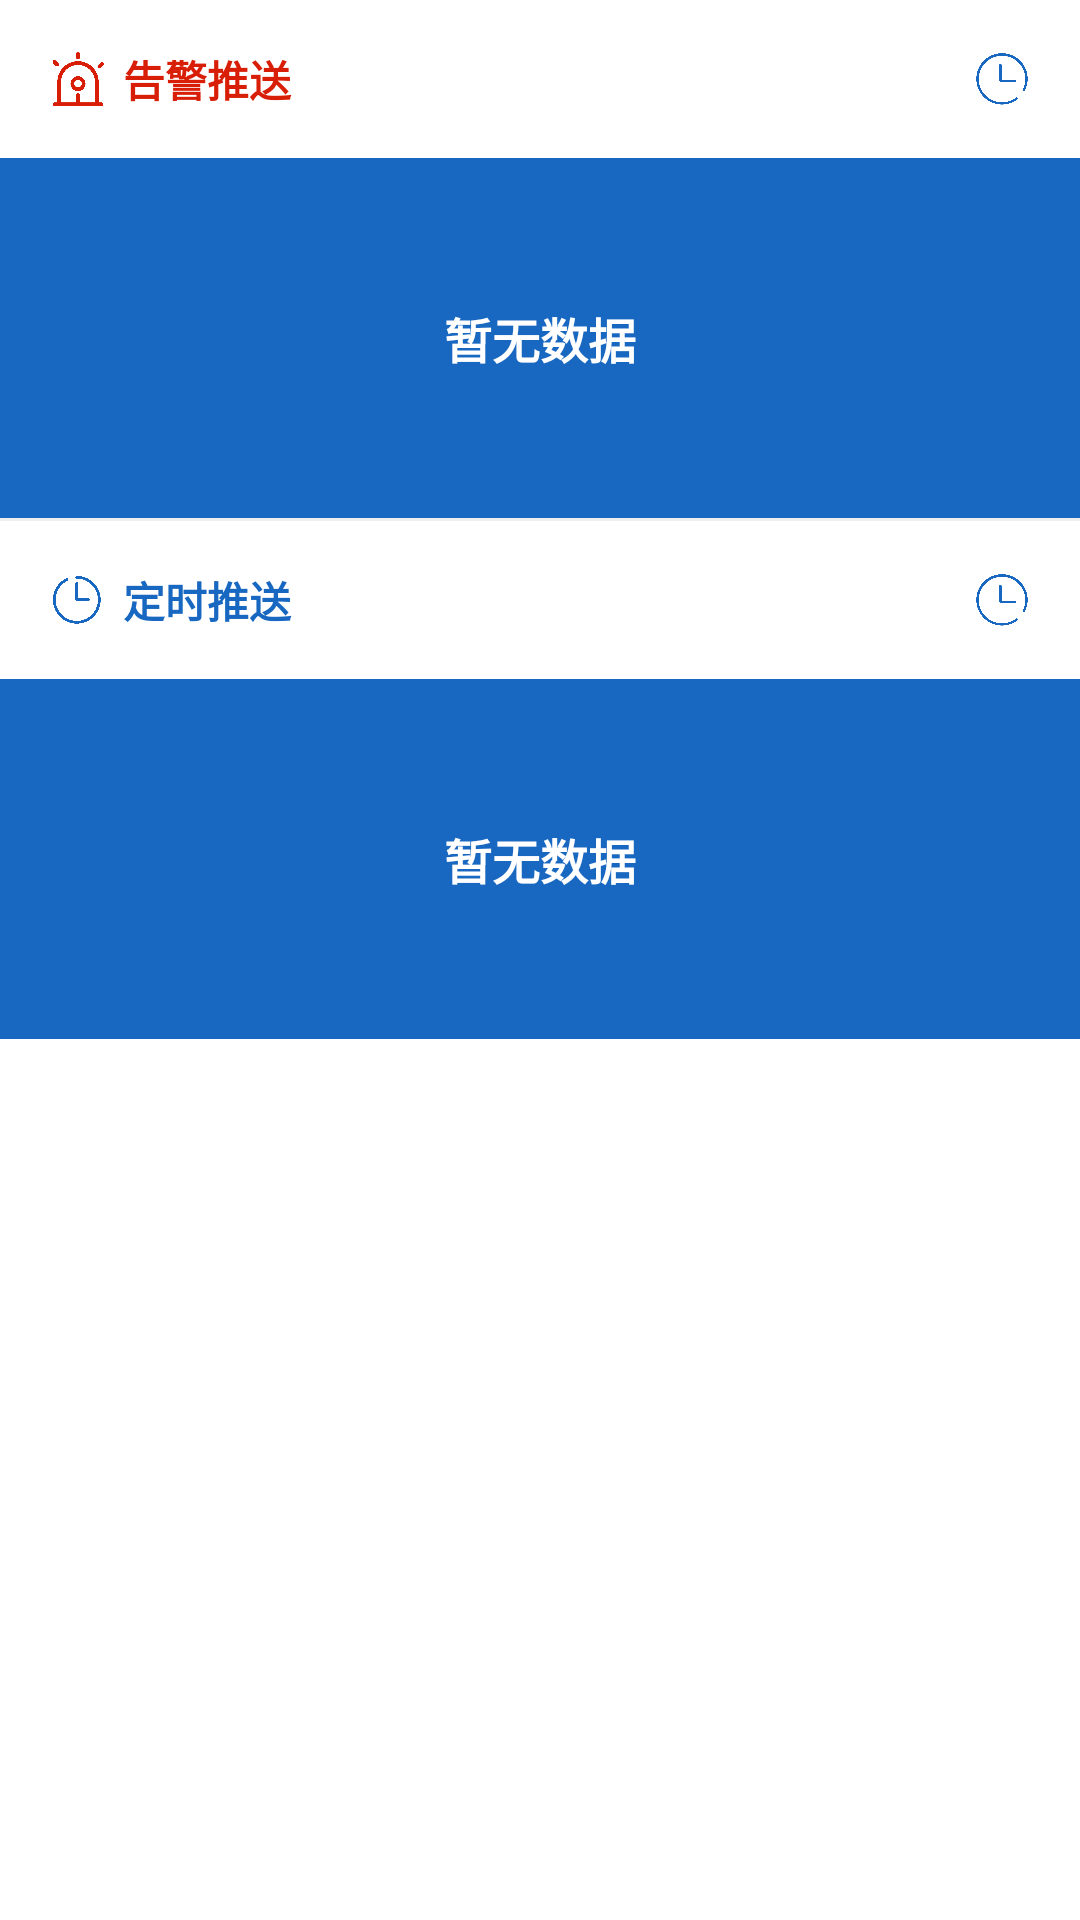

Icons on this 1080px×1920px Android screen, each with the point to tap as (x=x, y=y):
shijian: (x=1002, y=79), (x=1002, y=600)
